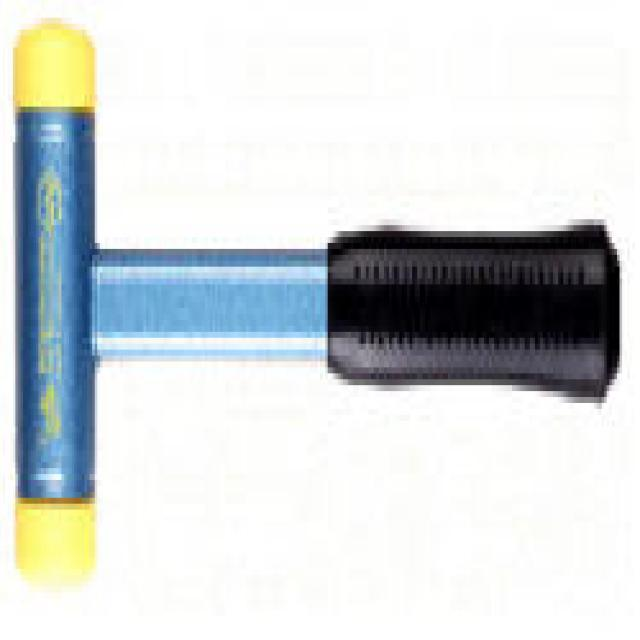hammer: (2, 0, 640, 622)
